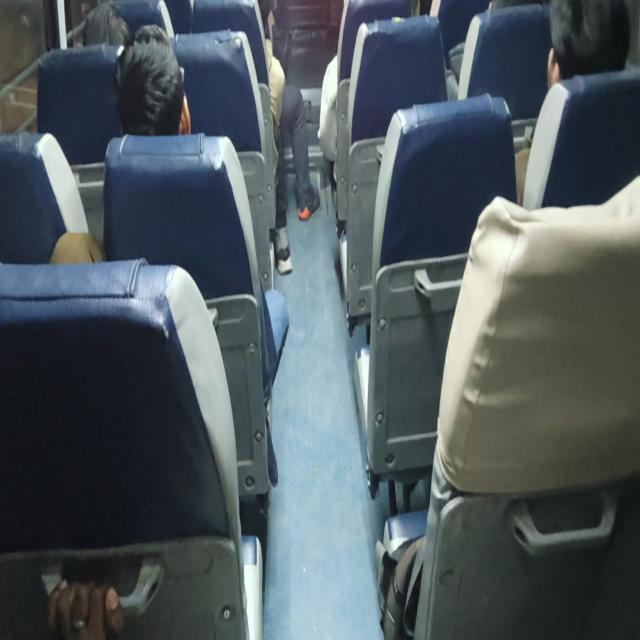person: (49, 23, 290, 486), (191, 0, 321, 274), (50, 23, 191, 264), (513, 0, 632, 204), (258, 0, 320, 274), (114, 23, 191, 136), (546, 0, 630, 89)
